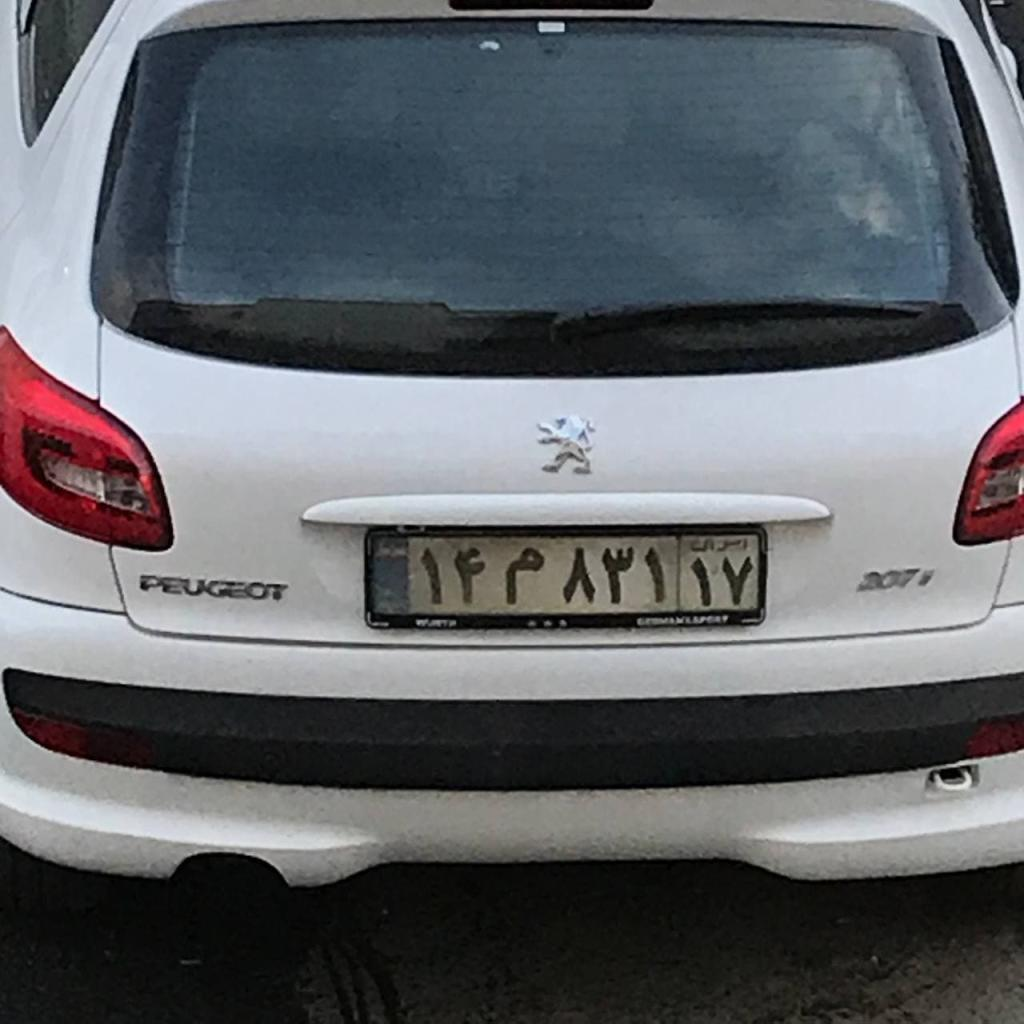Plates: (369, 533, 760, 614)
